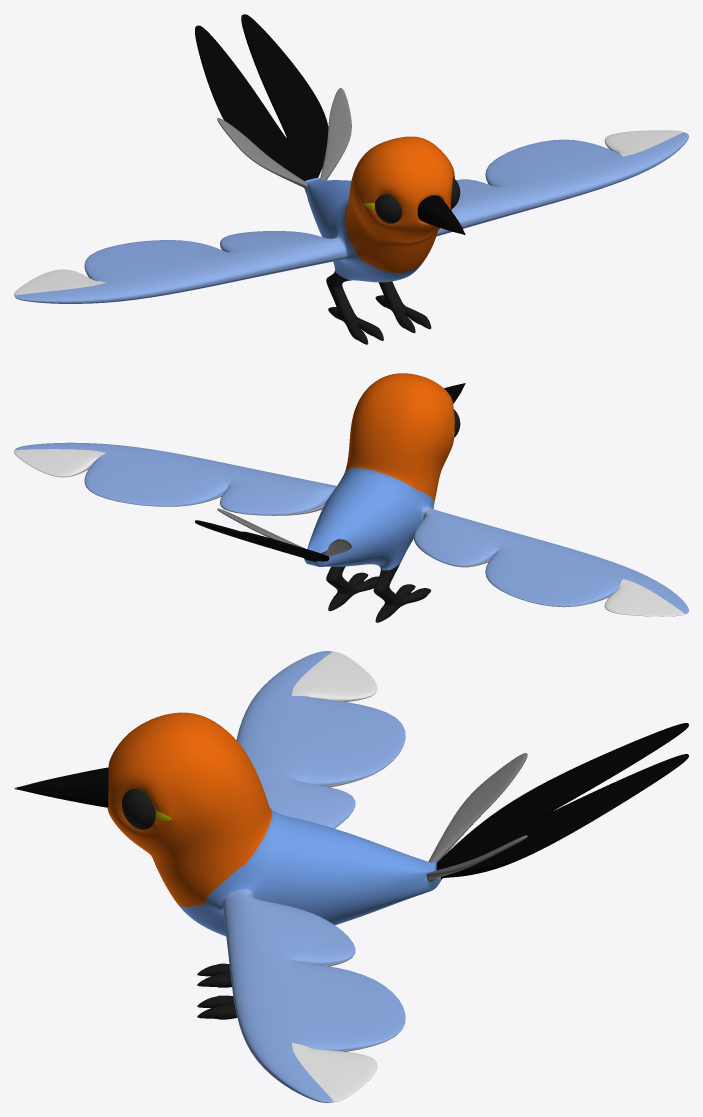
Rendered from BirdGame.fbx.
3 renders of one model, top to bottom at view 1: azimuth 30°, elevation 25°; view 2: azimuth 150°, elevation 25°; view 3: azimuth 270°, elevation 25°, orthographic. The views are drawn at different scales.
Visible parts, largest first — view 1: Cube; view 2: Cube; view 3: Cube.
Boxes of the visible parts, left/top/right/bottom form: Cube: left=14, top=14, right=688, bottom=344; Cube: left=14, top=373, right=688, bottom=622; Cube: left=14, top=651, right=688, bottom=1102.
Size of the model in its own units: 1561 by 446 by 987.
